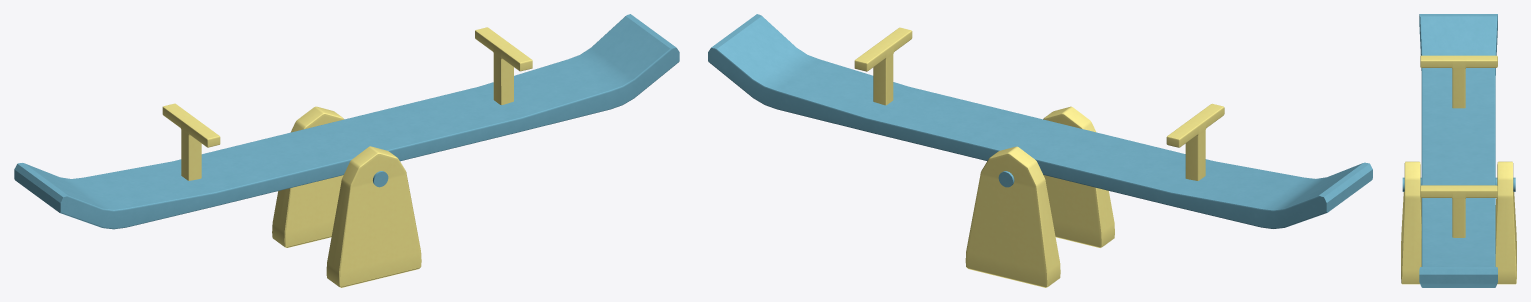
Rendered from Seesaw.fbx.
3 views of the same model, side by side, from view 1: azimuth 30°, elevation 25°; view 2: azimuth 150°, elevation 25°; view 3: azimuth 270°, elevation 25° (orthographic). The views are drawn at different scales.
Parts seen in each view (by area): view 1: Seesaw_plank, Seesaw_rock, Seesaw_handle; view 2: Seesaw_plank, Seesaw_rock, Seesaw_handle; view 3: Seesaw_plank, Seesaw_rock, Seesaw_handle.
Part boxes in pixels (x1,y1,x2,y2): Seesaw_plank: (14, 14, 679, 229); Seesaw_rock: (272, 106, 421, 287); Seesaw_handle: (162, 27, 532, 180); Seesaw_plank: (708, 14, 1372, 228); Seesaw_rock: (965, 106, 1114, 287); Seesaw_handle: (854, 27, 1224, 180); Seesaw_plank: (1419, 14, 1497, 287); Seesaw_rock: (1401, 161, 1516, 284); Seesaw_handle: (1420, 55, 1497, 237).
Bounding box in the file's own units: 53.85 × 14.21 × 10.23.
3 materials, 3 textured.
